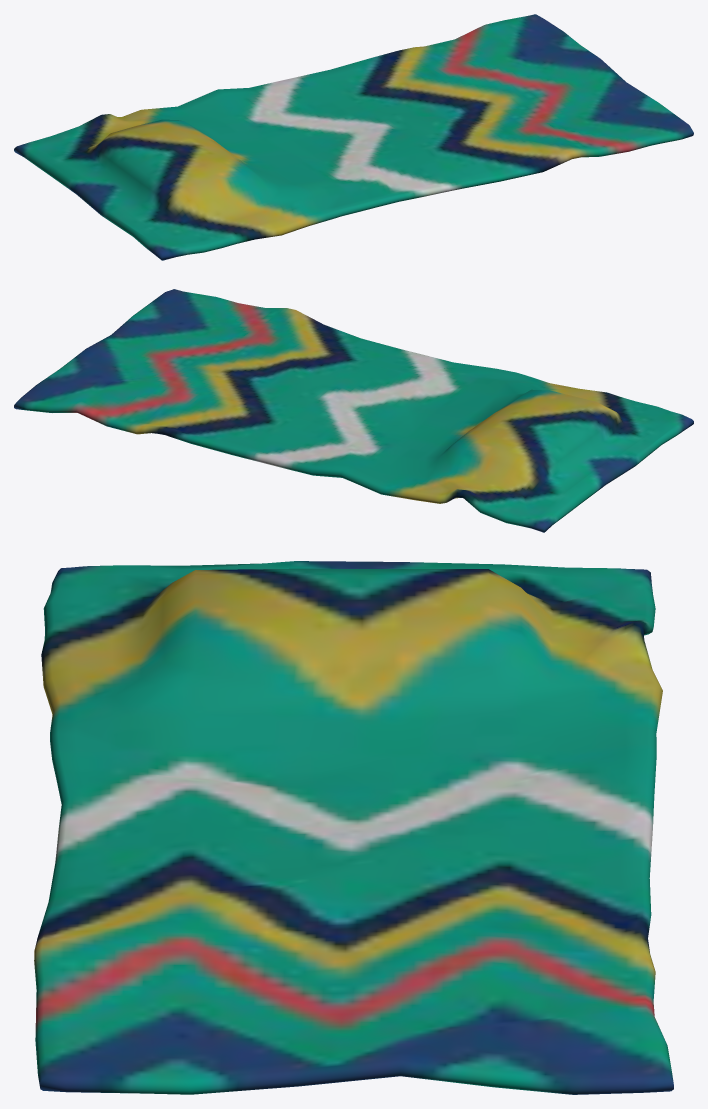
The picture shows the model from 3 angles, top to bottom: view 1: azimuth 30°, elevation 25°; view 2: azimuth 150°, elevation 25°; view 3: azimuth 270°, elevation 25°; orthographic projection. The views are drawn at different scales.
Size of the model in its own units: 18.11 by 1.09 by 9.44.
1 material, 1 textured.
